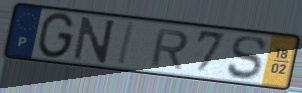7: (194, 28, 230, 78)
G: (35, 11, 77, 61)
I: (115, 20, 138, 68)
N: (71, 15, 118, 65)
R: (148, 27, 191, 71)
S: (225, 35, 268, 81)
